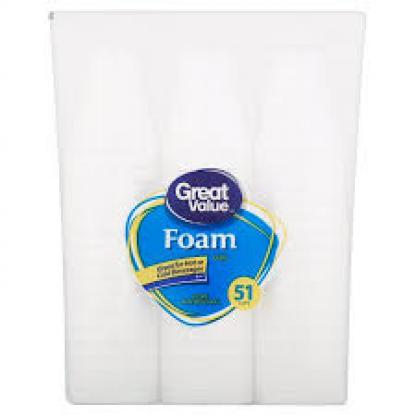paper: (48, 7, 362, 403)
